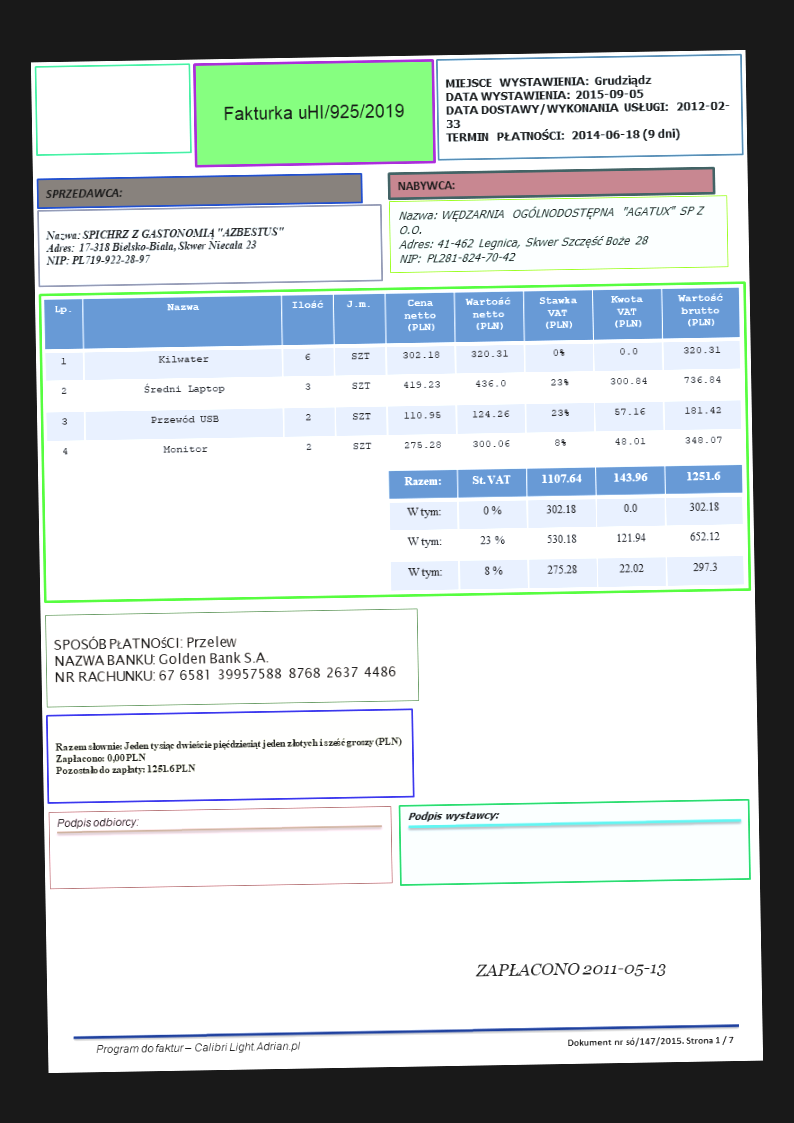Table: (42, 285, 743, 474), (387, 463, 746, 594)
TextBox: (443, 70, 734, 146), (395, 202, 709, 268), (51, 629, 398, 688), (53, 733, 404, 777), (44, 223, 287, 268), (473, 956, 667, 984), (94, 1036, 303, 1059), (221, 100, 407, 125), (565, 1032, 735, 1050), (406, 806, 501, 826), (54, 813, 140, 832), (42, 183, 125, 202), (395, 177, 456, 195)
